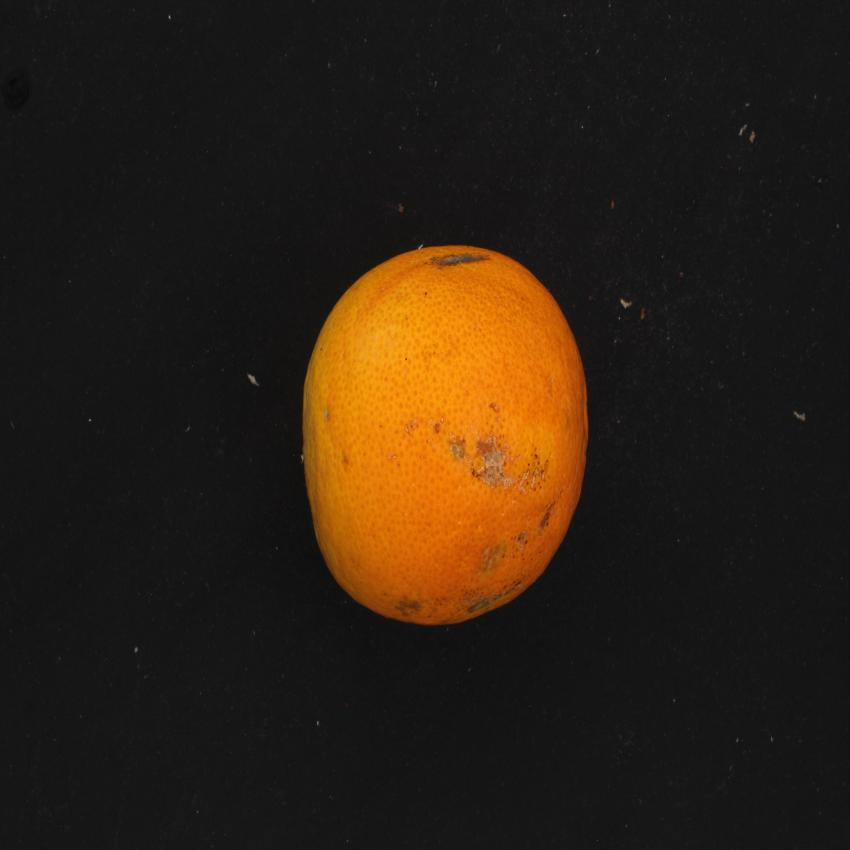Mal estado: (291, 224, 604, 648)
